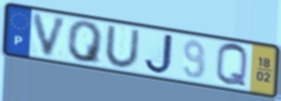9: (182, 38, 209, 81)
J: (143, 32, 176, 75)
Q: (67, 21, 106, 66), (214, 42, 250, 90)
U: (103, 24, 142, 70)
V: (31, 12, 70, 59)
